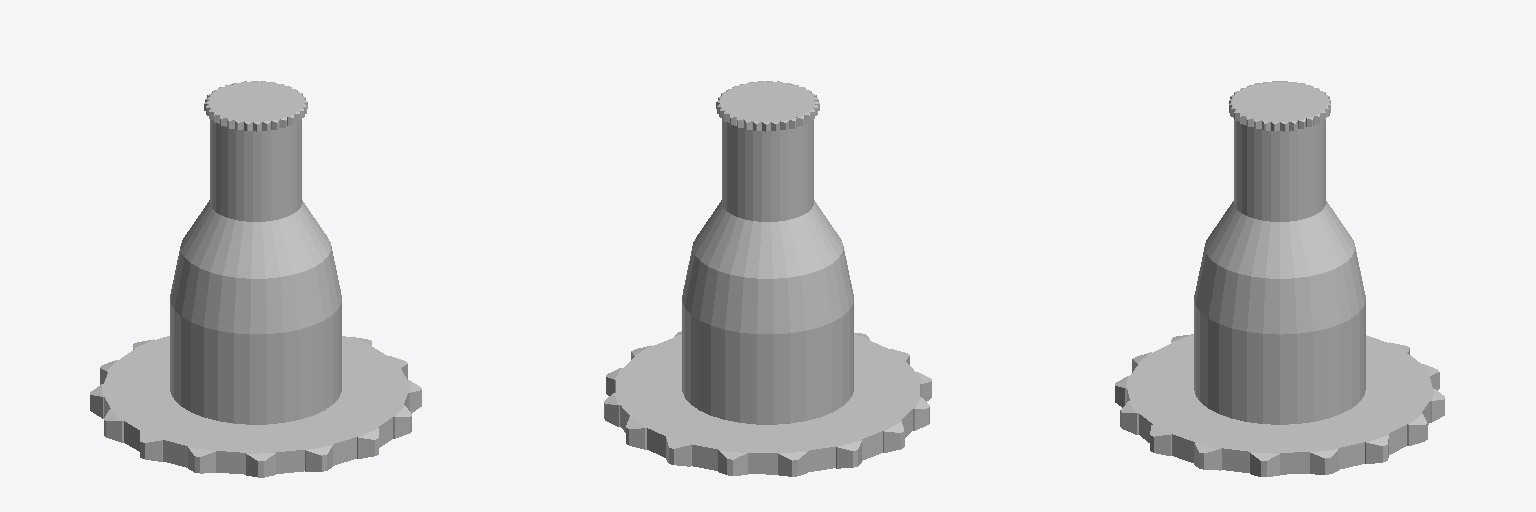
Rendered from lamp1.obj.
The picture shows the model from 3 angles: view 1: azimuth 30°, elevation 25°; view 2: azimuth 150°, elevation 25°; view 3: azimuth 270°, elevation 25°; orthographic projection.
Parts seen in each view (by area): view 1: Cylinder_Cylinder.001; view 2: Cylinder_Cylinder.001; view 3: Cylinder_Cylinder.001.
Boxes of the visible parts, box(x1,y1,x2,y2) form: Cylinder_Cylinder.001: box(90, 81, 421, 477); Cylinder_Cylinder.001: box(604, 81, 931, 476); Cylinder_Cylinder.001: box(1115, 81, 1444, 476).
Bounding box in the file's own units: 1.84 × 1.89 × 1.84.